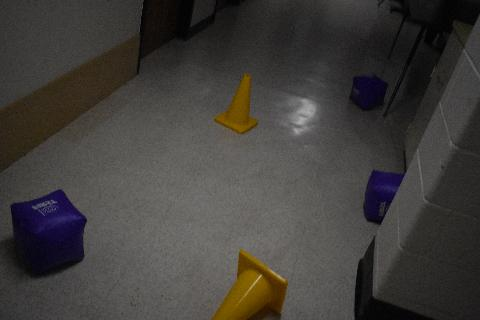cone: (211, 250, 288, 320), (214, 74, 257, 134)
cube: (10, 189, 87, 273), (364, 170, 406, 224), (350, 74, 389, 110)
